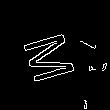M_E: (17, 25, 82, 84)
